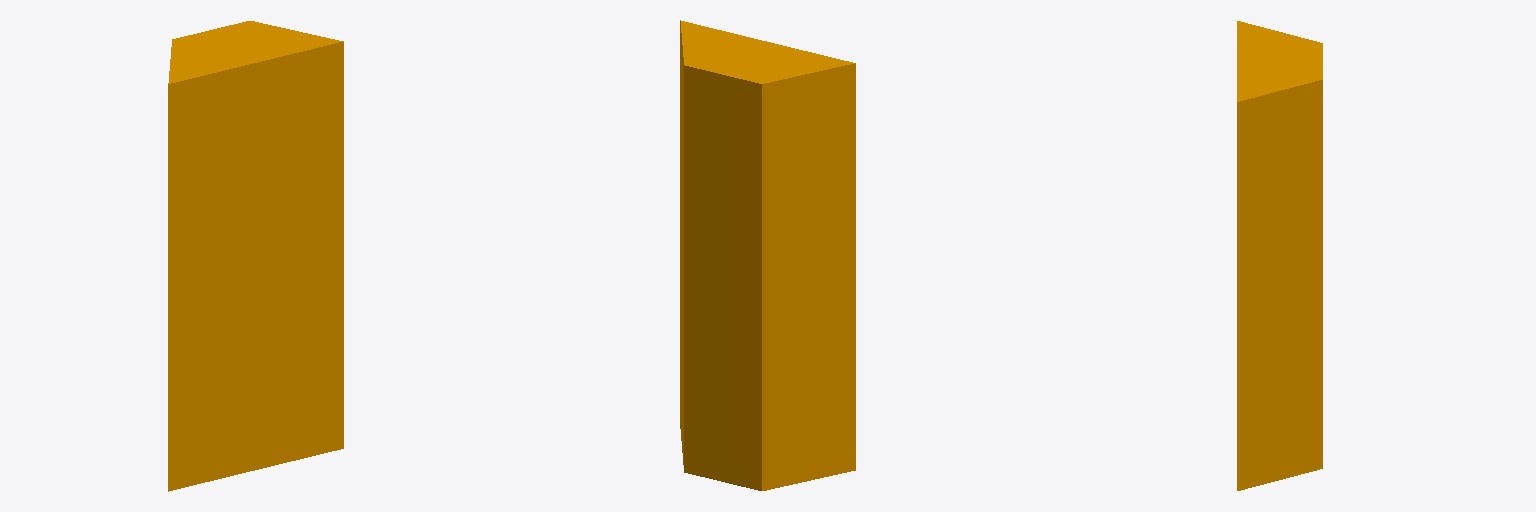
robot.urdf — trapazoid:
<?xml version="1.0" ?>
<robot name="trapazoid">

    <link concave="yes" name="trapazoid">
        <visual>
            <origin rpy="1.5707963267948966 0 0" xyz="0 0 0"/>
            <geometry>
                <mesh filename="Shapes/trapazoid.obj" scale=".1 .1 .1"/>
            </geometry>
        </visual>
        <collision concave="yes">
            <origin rpy="1.5707963267948966 0 0" xyz="0 0 0"/>
            <geometry>
                <mesh filename="Shapes/trapazoid.obj" scale=".1 .1 .1"/>
            </geometry>
        </collision>
        <inertial>
            <mass value="0.3"/>
            <inertia ixx="0.000029435425" ixy="0.0" ixz="0.0" iyy="0.000029435425" iyz="0.0" izz="0.00000725805"/>
        </inertial>
    </link>

</robot>

--- What the picture shows (computed from the rendered views, not written in the file) ---
The picture shows the robot from 3 angles, left to right: view 1: azimuth 30°, elevation 25°; view 2: azimuth 150°, elevation 25°; view 3: azimuth 270°, elevation 25°; orthographic projection.
Model trapazoid with 1 links and 0 joints (none), rooted at trapazoid, posed every joint at zero.
Links seen in each view (by area): view 1: trapazoid; view 2: trapazoid; view 3: trapazoid.
Link boxes in pixels (x1,y1,x2,y2): trapazoid: (168,21,343,491); trapazoid: (680,20,855,490); trapazoid: (1237,21,1322,490).
Bounding box of the posed robot: 0.045 × 0.02 × 0.1 m (x, y, z).
1 mesh visuals loaded from 1 distinct referenced files (1 OBJ).
